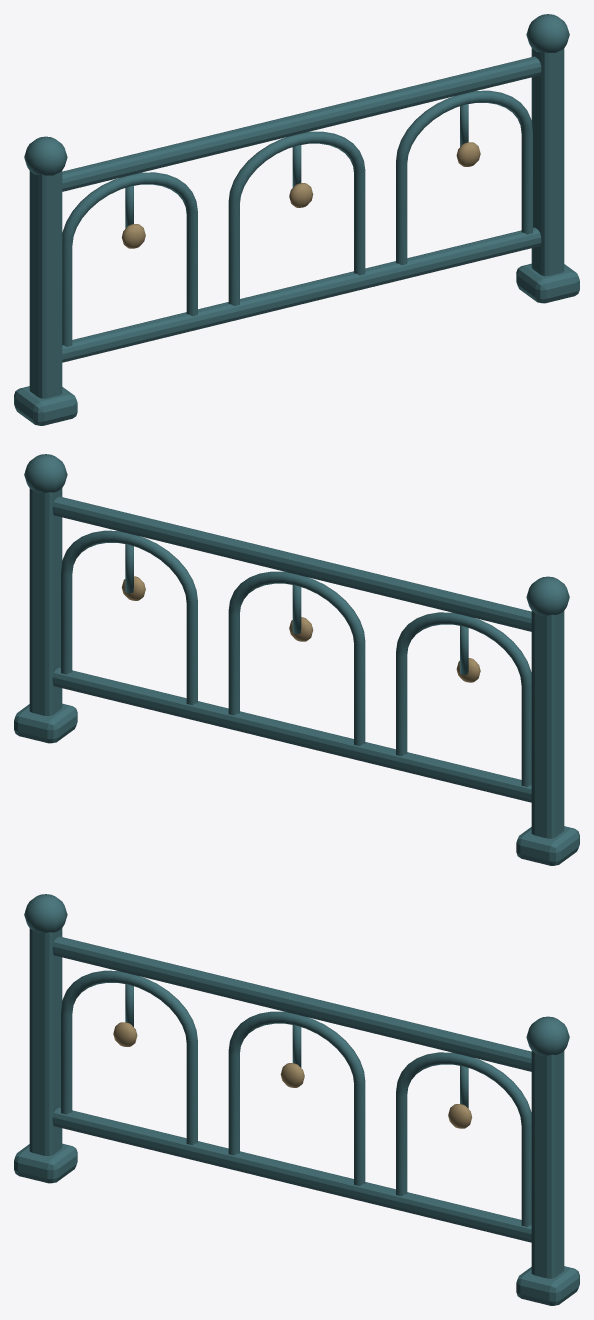
File: RailingOrtakoy.glb
3 views of the same model, one above another, from view 1: azimuth 30°, elevation 25°; view 2: azimuth 150°, elevation 25°; view 3: azimuth 330°, elevation 25° (orthographic).
Parts seen in each view (by area): view 1: RK_RailingOrtakoy_RailingOrtakoy_Paint, RK_RailingOrtakoy_RailingOrtakoy_Accent; view 2: RK_RailingOrtakoy_RailingOrtakoy_Paint, RK_RailingOrtakoy_RailingOrtakoy_Accent; view 3: RK_RailingOrtakoy_RailingOrtakoy_Paint, RK_RailingOrtakoy_RailingOrtakoy_Accent.
Part boxes in pixels (x1,y1,x2,y2): RK_RailingOrtakoy_RailingOrtakoy_Paint: (14,14,579,425); RK_RailingOrtakoy_RailingOrtakoy_Accent: (121,142,480,248); RK_RailingOrtakoy_RailingOrtakoy_Paint: (14,454,579,865); RK_RailingOrtakoy_RailingOrtakoy_Accent: (121,576,480,682); RK_RailingOrtakoy_RailingOrtakoy_Paint: (14,894,579,1305); RK_RailingOrtakoy_RailingOrtakoy_Accent: (113,1022,472,1128).
Bounding box in the file's own units: 2.61 × 1.26 × 0.22.
